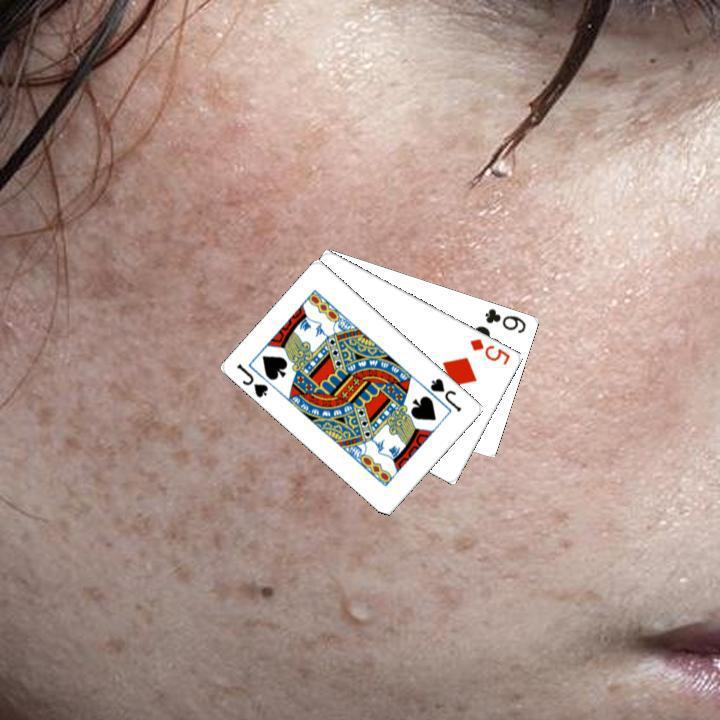5: (466, 334, 513, 367)
6: (481, 304, 528, 335)
J: (232, 359, 271, 400), (426, 373, 464, 414)
